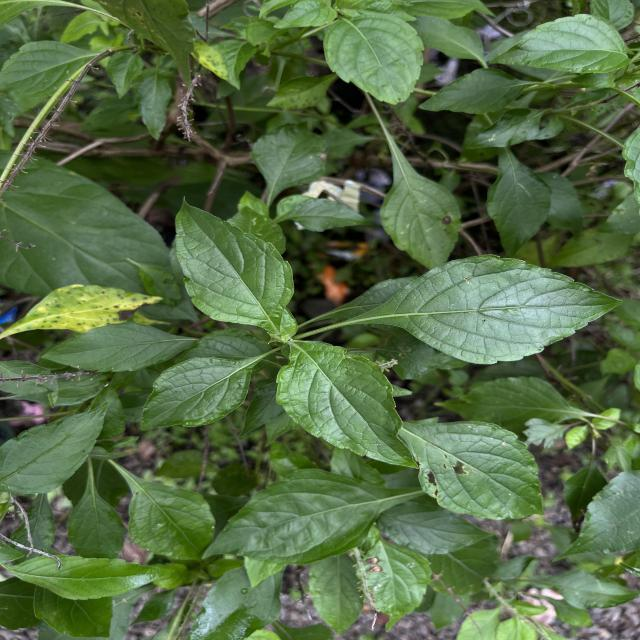Ocimum gratissimum: (333, 251, 626, 367), (195, 465, 408, 568), (273, 335, 421, 474), (172, 191, 300, 328), (400, 418, 550, 524), (0, 396, 113, 501), (136, 350, 278, 432), (378, 136, 464, 266), (321, 8, 429, 107), (486, 9, 639, 75), (33, 318, 207, 376), (0, 551, 181, 602), (125, 470, 219, 558), (480, 153, 556, 260)
